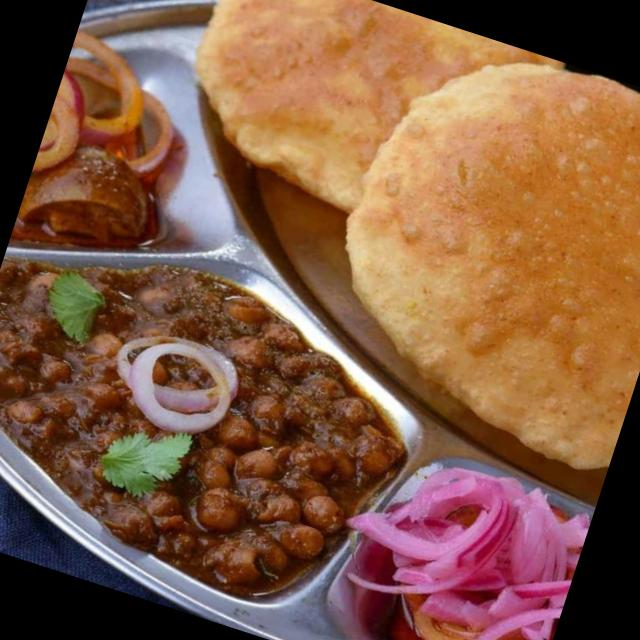Bhatura: (107, 0, 640, 479)
Chole: (0, 207, 444, 637)
